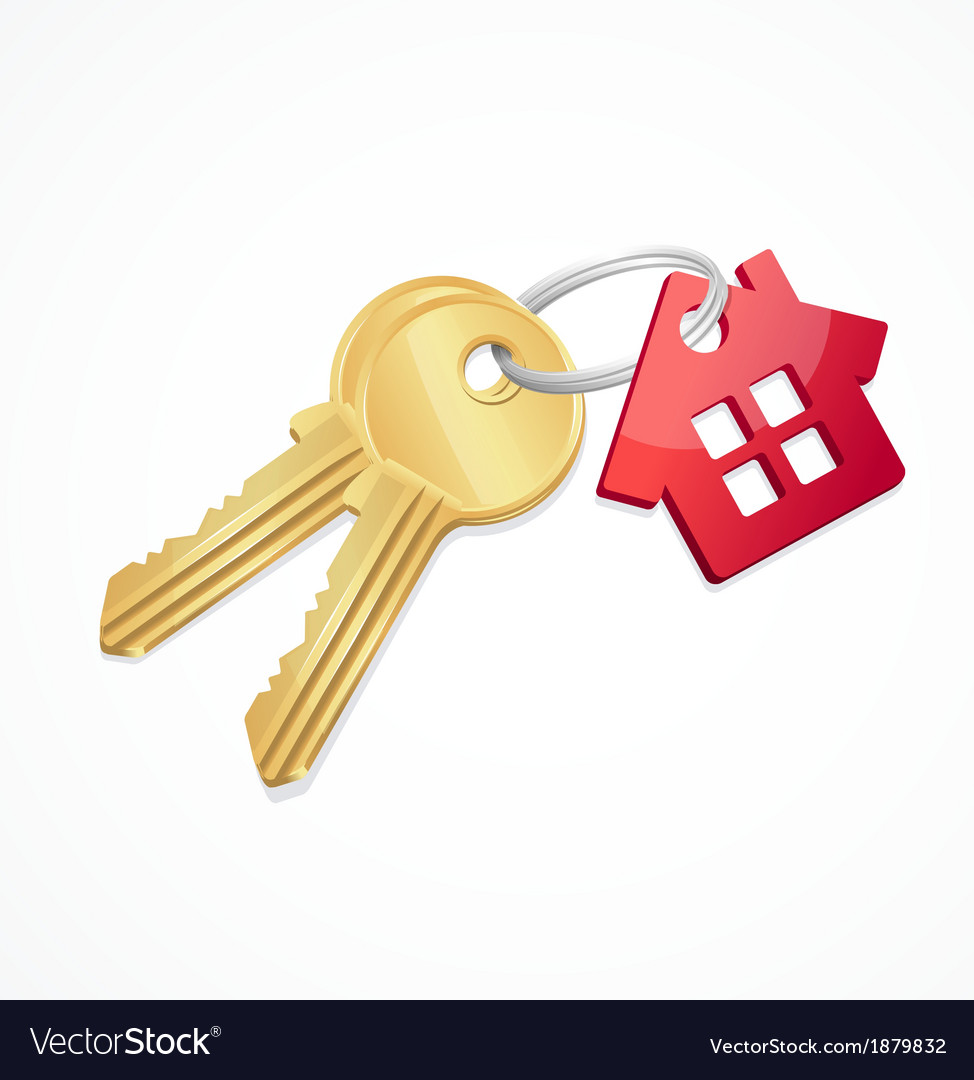key: (93, 272, 588, 789)
